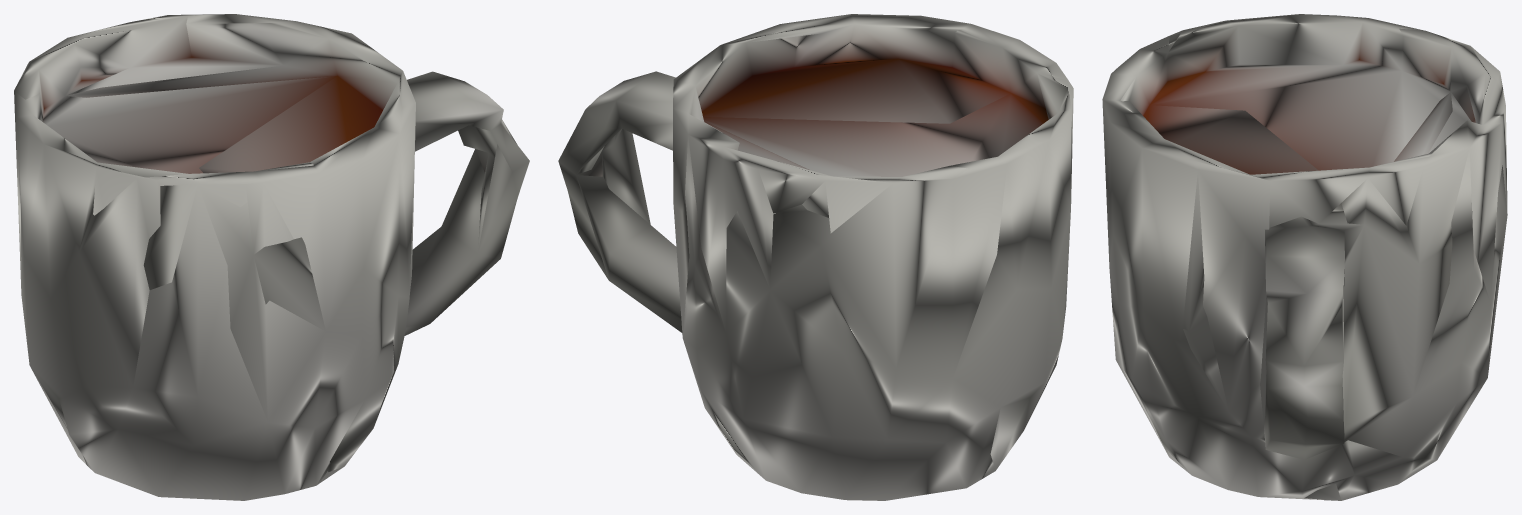
The model's file is gen3d-coffee-cup-lod1.glb.
The picture shows the model from 3 angles, left to right: view 1: azimuth 30°, elevation 25°; view 2: azimuth 150°, elevation 25°; view 3: azimuth 270°, elevation 25°; orthographic projection.
Parts seen in each view (by area): view 1: part_0; view 2: part_0; view 3: part_0.
Part boxes in pixels (x1=…): part_0: x1=14, y1=14, x2=529, y2=500; part_0: x1=558, y1=14, x2=1073, y2=500; part_0: x1=1102, y1=14, x2=1507, y2=500.
Size of the model in its own units: 1.43 by 0.9979 by 1.05.
